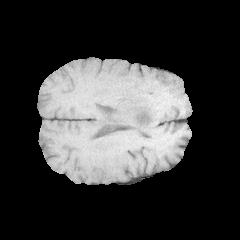glioma: (99, 86, 173, 135)
